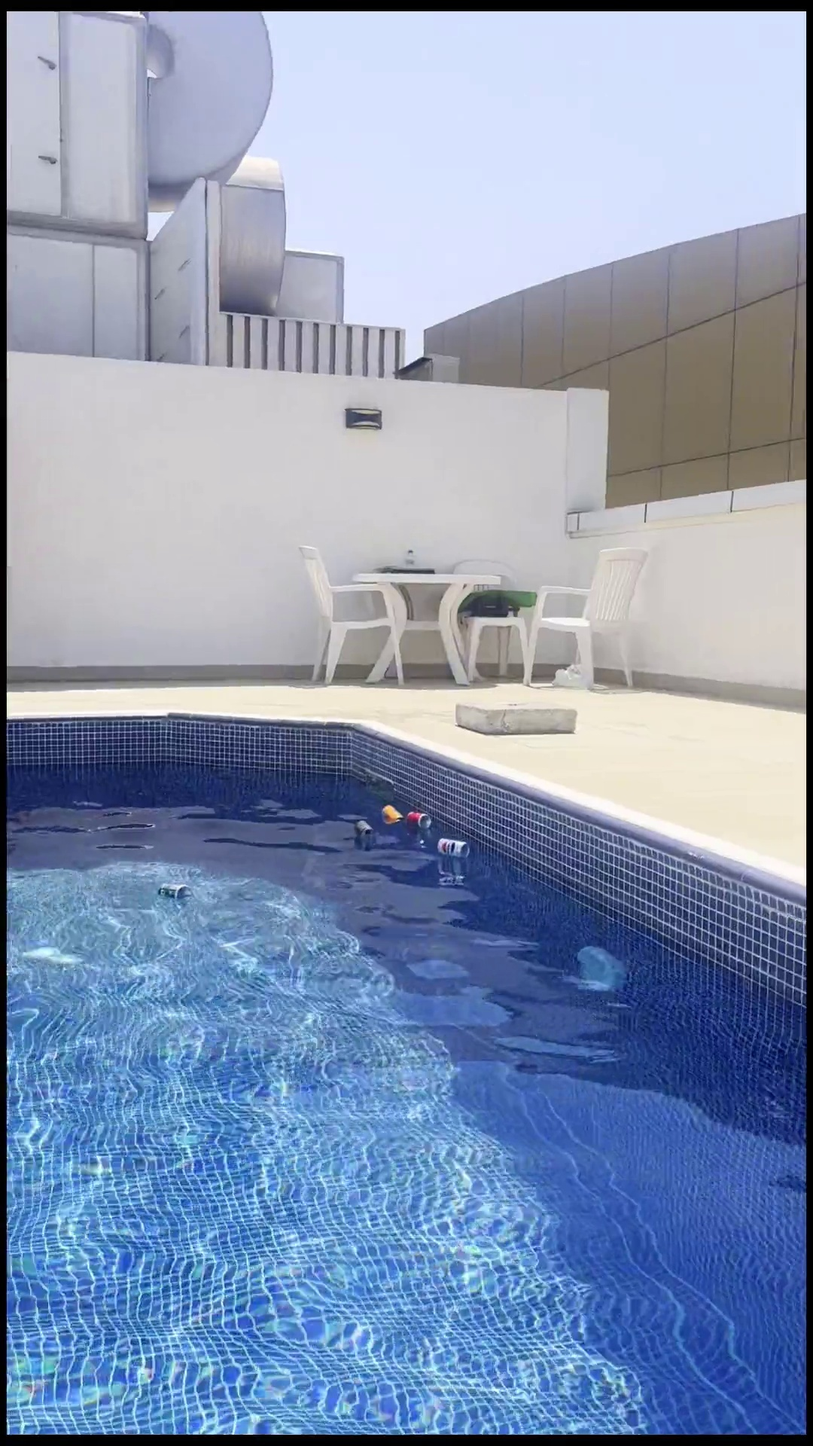debris: (434, 831, 470, 871), (403, 799, 431, 840), (348, 807, 372, 849), (157, 875, 184, 911), (381, 799, 400, 831)
